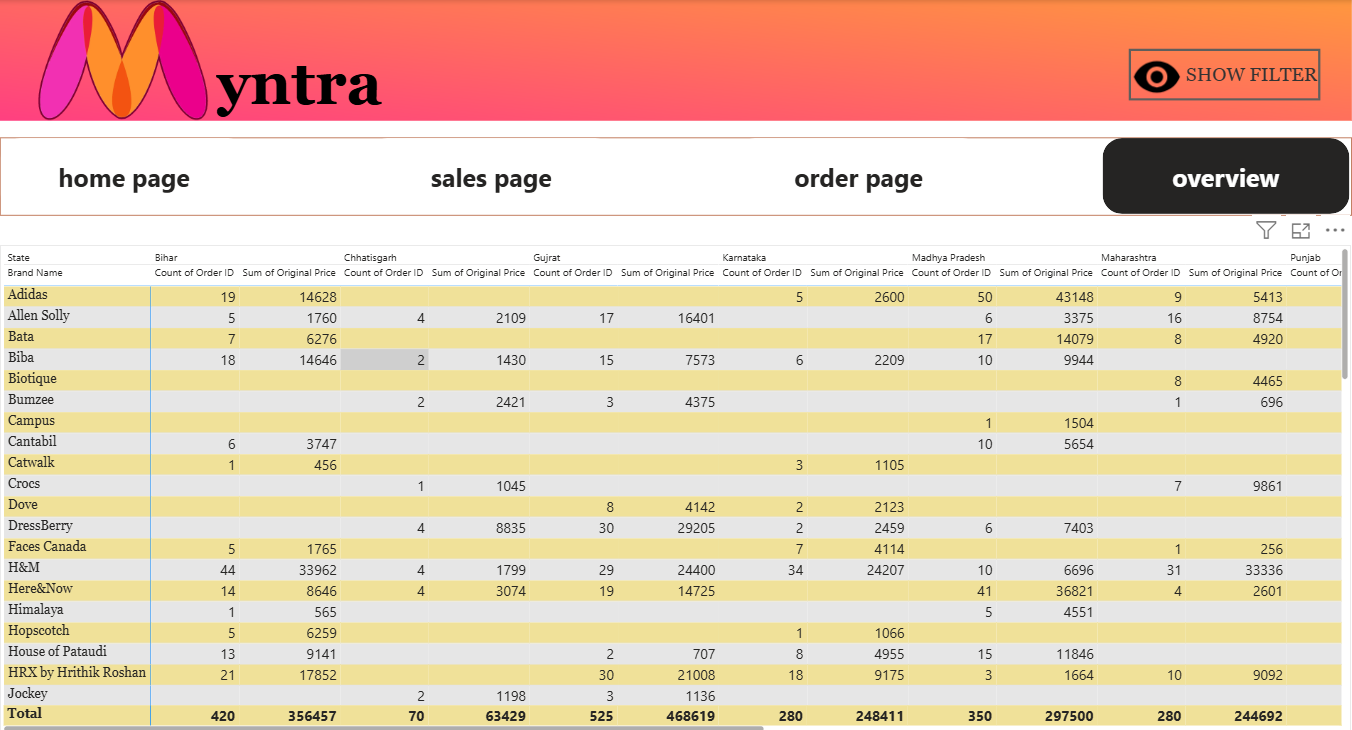

This screenshot's page, from the dashboard's own definition file:
{"tool":"powerbi","page":{"name":"overview","canvas":[1800,980],"ordinal":3},"visuals":[{"type":"group","id":"g1","title":"Group 1","box":[0,0,1800,183.3],"z":0},{"type":"image","box":[0,0,1800,160.4],"z":0,"group":"g1"},{"type":"image","box":[0,0,337,160.1],"z":1000,"group":"g1"},{"type":"pageNavigator","box":[0,183.9,1800,103.7],"z":1000},{"type":"actionButton","box":[181.4,38.6,434.2,144.7],"z":2000,"group":"g1"},{"type":"pivotTable","fields":{"Rows":["dim_products.Brand Name"],"Columns":["dim_customers.State"],"Values":["Count(fact_orders.Order ID)","Sum(fact_orders.Original Price)"]},"box":[0,326,1800,654],"z":2000},{"type":"actionButton","box":[1503.4,65.5,255.2,69],"z":3000}]}

Visuals, with their boxes in screenshot pixels (x1, y1, x2, y2), scaled from the page's 1800x980 canvas onto the 1352x730 screenshot:
"Group 1" group: [left=0, top=0, right=1351, bottom=137]
image: [left=0, top=0, right=1351, bottom=119]
image: [left=0, top=0, right=253, bottom=119]
pageNavigator: [left=0, top=137, right=1351, bottom=214]
actionButton: [left=136, top=29, right=462, bottom=137]
pivotTable - dim_products.Brand Name x dim_customers.State: [left=0, top=243, right=1351, bottom=729]
actionButton: [left=1129, top=49, right=1321, bottom=100]
